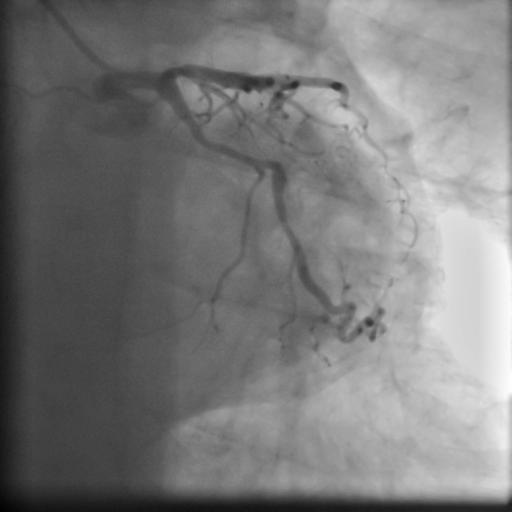Stenosis: (254, 154, 282, 176)
